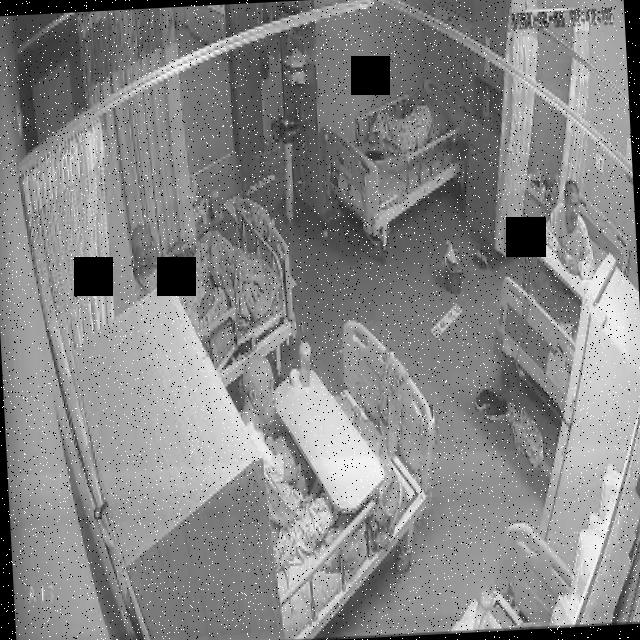bed: (233, 321, 444, 640), (487, 194, 637, 416), (156, 202, 296, 392), (323, 74, 473, 240)
lie: (362, 88, 443, 158)
patient: (238, 348, 342, 568), (132, 222, 220, 344), (541, 172, 596, 282), (363, 89, 443, 160)
sit: (236, 349, 343, 569), (132, 220, 262, 342), (542, 174, 596, 282)
